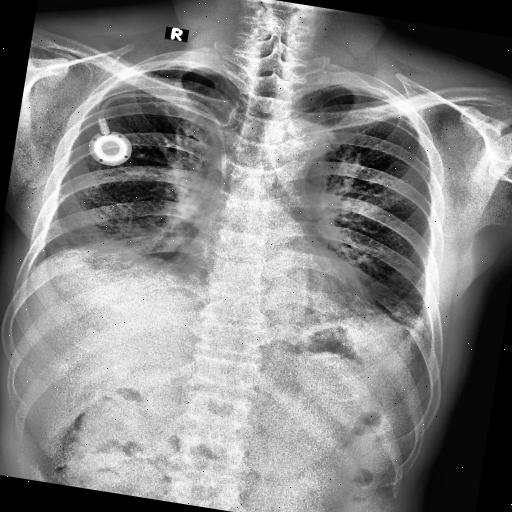0- Aortic enlargement: (270, 114, 340, 188), (267, 112, 333, 175)
11- Pleural thickening: (338, 78, 397, 102), (160, 58, 218, 76)
6- Infiltration: (94, 216, 176, 264), (366, 279, 436, 330)
7- Lung Opacity: (78, 198, 206, 276), (324, 260, 436, 332), (107, 198, 212, 274), (359, 278, 437, 332)
